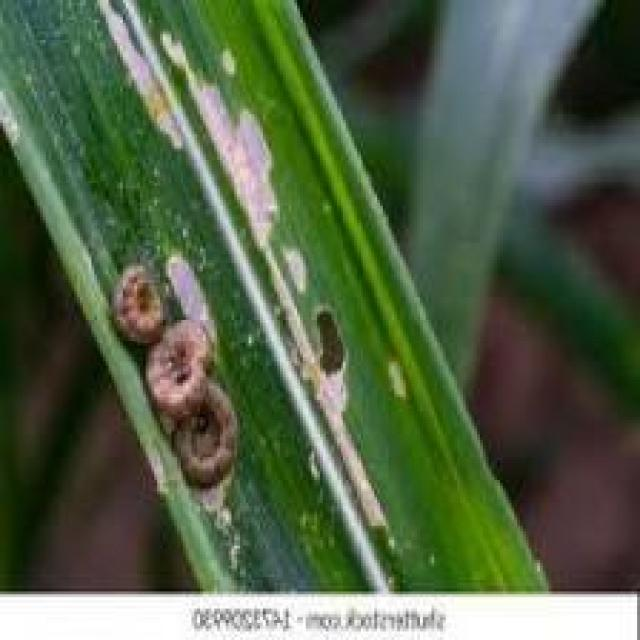Plaga: (170, 384, 247, 492), (138, 325, 215, 420), (103, 244, 168, 344)
